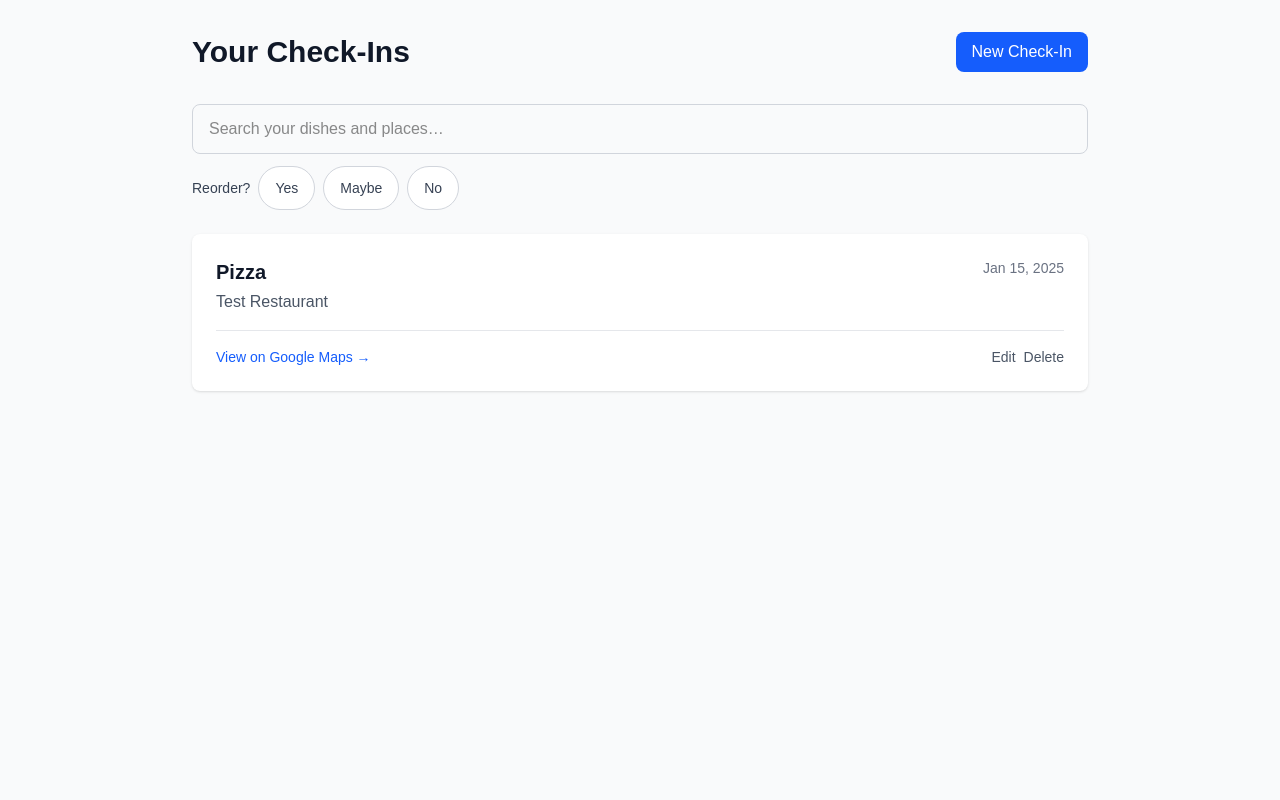
Test: HistoryPage › should close edit modal when cancel is clicked
Expected: the heading "Pizza" is shown, [216,258,266,286]
// Open modal
Click the button "Edit": (1003, 357) [991,347,1016,367]
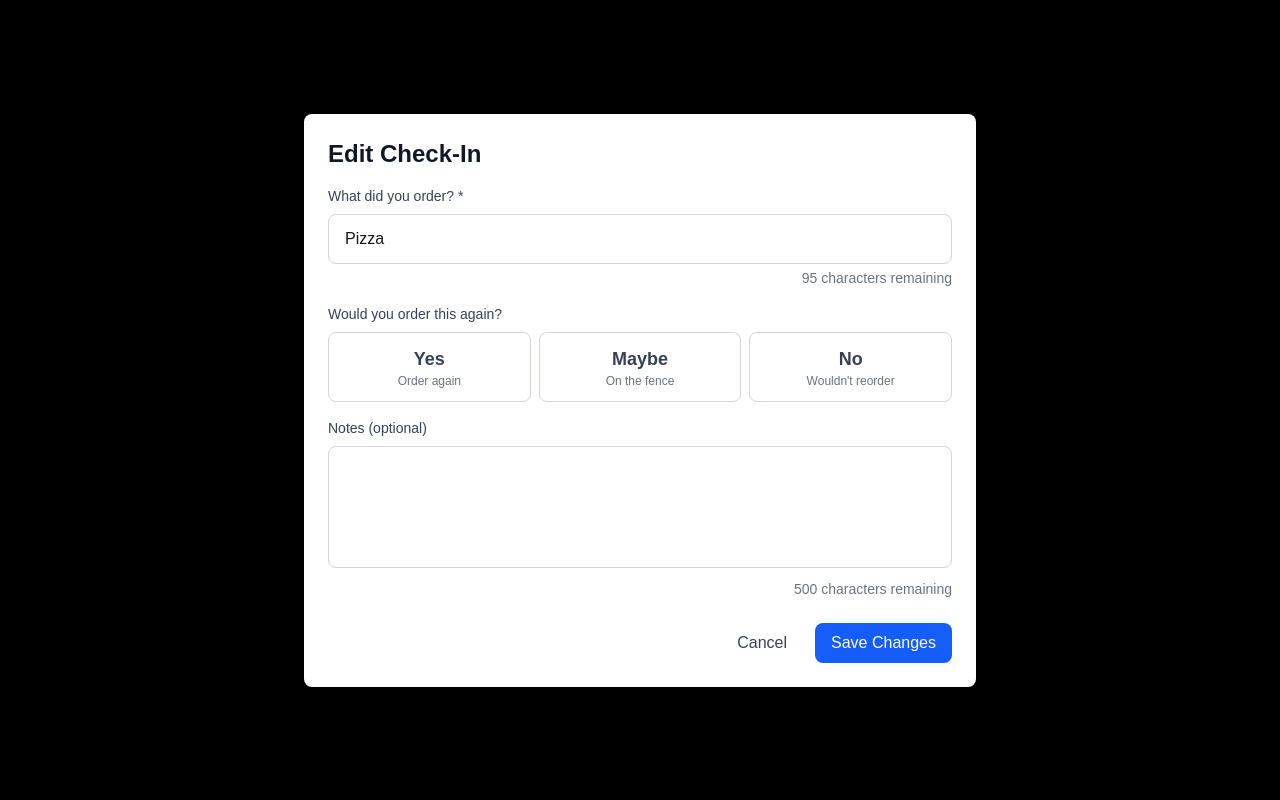
Now the heading "Edit Check-In" is shown, box [328,140,481,166]
// Close modal
Click the button "Cancel": (762, 642) [721,622,803,662]
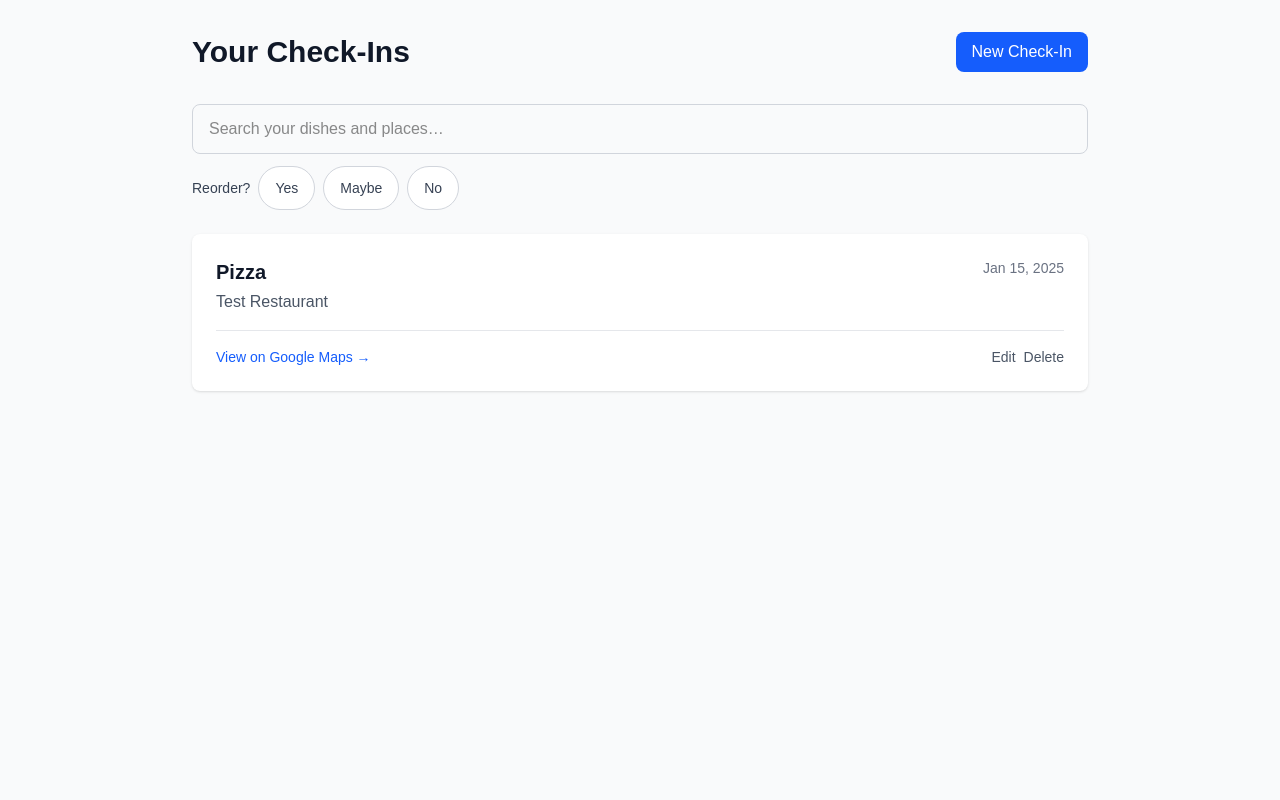
Now the heading "Edit Check-In" is gone
